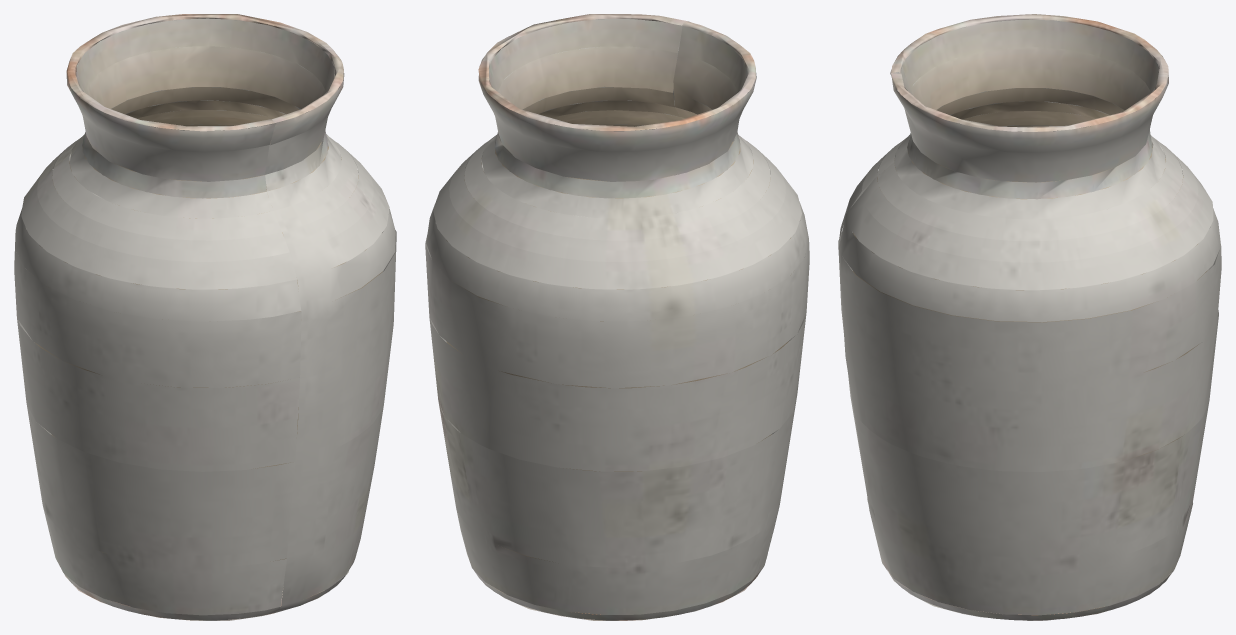
File: vase.glb
3 renders of one model, left to right at view 1: azimuth 30°, elevation 25°; view 2: azimuth 150°, elevation 25°; view 3: azimuth 270°, elevation 25°, orthographic.
Visible parts, largest first — view 1: ceramic_vase_02; view 2: ceramic_vase_02; view 3: ceramic_vase_02.
Boxes of the visible parts, x1,y1,x2,y2 form: ceramic_vase_02: (14, 14, 396, 620); ceramic_vase_02: (425, 14, 809, 620); ceramic_vase_02: (838, 14, 1221, 620).
Bounding box in the file's own units: 0.1907 × 0.27 × 0.1909.
1 material, 1 textured.
